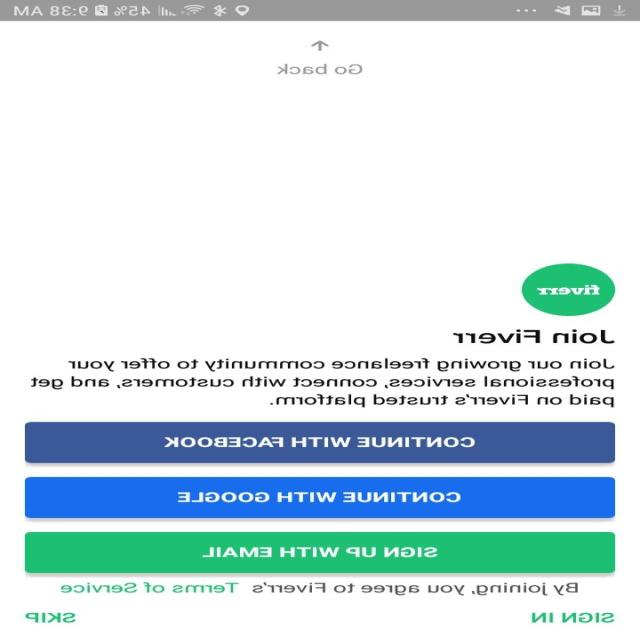Icon: (311, 40, 331, 51)
Image: (522, 263, 616, 316)
Text: (31, 357, 616, 407), (60, 582, 578, 596), (453, 329, 616, 343), (276, 62, 364, 74), (532, 612, 616, 623), (26, 612, 76, 622)
TextButton: (25, 476, 615, 518), (25, 422, 617, 463), (25, 532, 615, 573)
